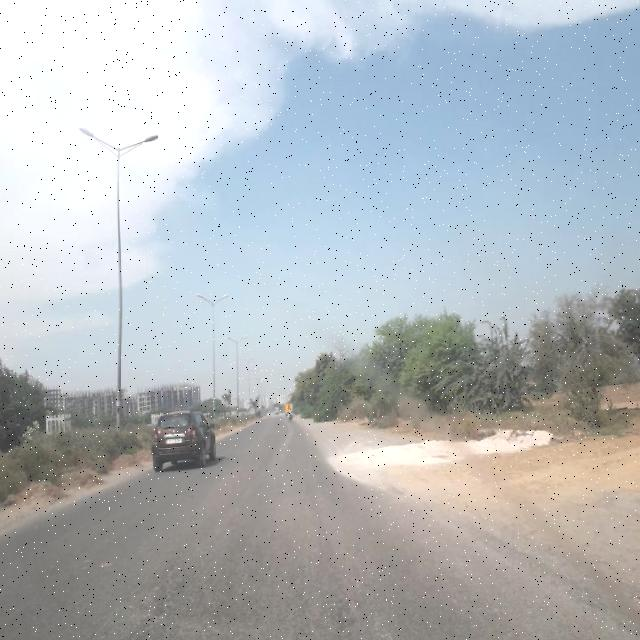D20: (131, 527, 397, 631)
